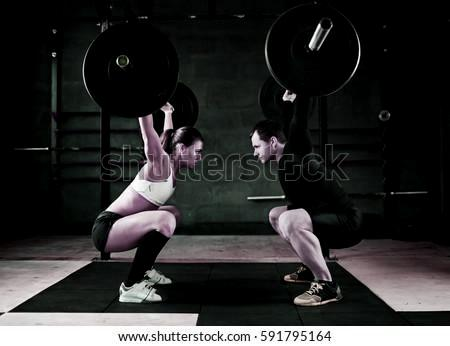Barbell: (318, 15, 336, 33), (116, 52, 131, 69)
